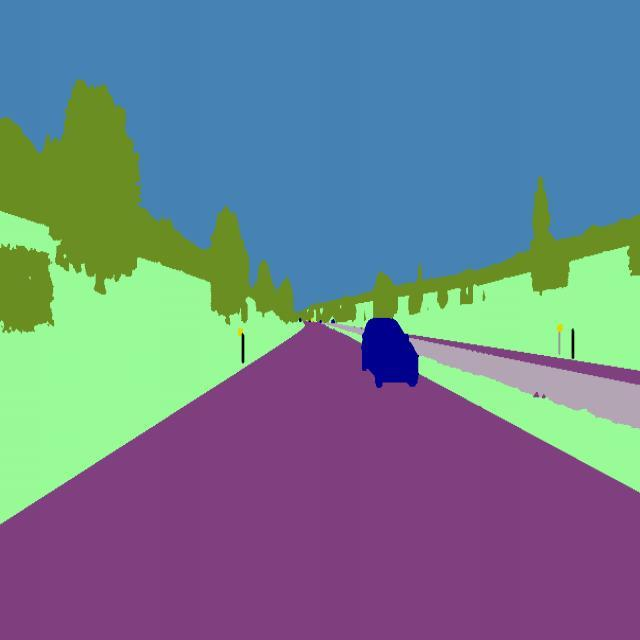safe: (353, 314, 422, 396)
